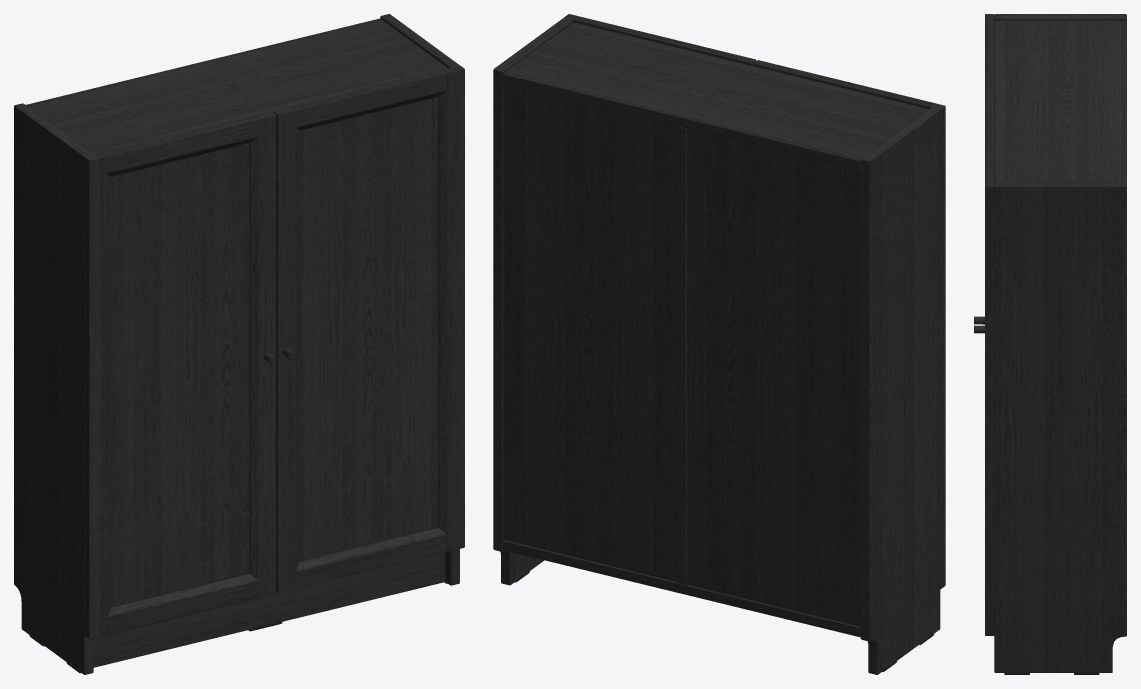
File: 10 - BILLY OXBERG Bookcase with doors - black oak effect 80x30x106 cm.glb
The picture shows the model from 3 angles, left to right: view 1: azimuth 30°, elevation 25°; view 2: azimuth 150°, elevation 25°; view 3: azimuth 270°, elevation 25°; orthographic projection. The views are drawn at different scales.
Visible parts, largest first — view 1: å¯¹è±¡002, å¯¹è±¡008, Plane003, Box002, å¯¹è±¡001, å¯¹è±¡003, å¯¹è±¡004; view 2: å¯¹è±¡007, Box002, å¯¹è±¡001, å¯¹è±¡006, å¯¹è±¡005, Plane003, å¯¹è±¡003; view 3: Box002, å¯¹è±¡001, Plane003, å¯¹è±¡003.
Boxes of the visible parts, bbox=[...] form: å¯¹è±¡002: bbox=[299, 97, 438, 561]; å¯¹è±¡008: bbox=[111, 143, 249, 607]; Plane003: bbox=[84, 65, 464, 638]; Box002: bbox=[14, 14, 459, 674]; å¯¹è±¡001: bbox=[26, 18, 447, 154]; å¯¹è±¡003: bbox=[102, 69, 446, 634]; å¯¹è±¡004: bbox=[93, 552, 445, 667]; å¯¹è±¡007: bbox=[503, 83, 860, 626]; Box002: bbox=[493, 17, 940, 674]; å¯¹è±¡001: bbox=[503, 22, 928, 170]; å¯¹è±¡006: bbox=[677, 126, 686, 584]; å¯¹è±¡005: bbox=[503, 540, 860, 637]; Plane003: bbox=[564, 14, 945, 589]; å¯¹è±¡003: bbox=[582, 18, 927, 107]; Box002: bbox=[994, 14, 1126, 672]; å¯¹è±¡001: bbox=[994, 20, 1126, 182]; Plane003: bbox=[985, 14, 994, 635]; å¯¹è±¡003: bbox=[985, 22, 994, 178].
Bounding box in the file's own units: 0.8 × 1.06 × 0.3.
1 material, 1 textured.
